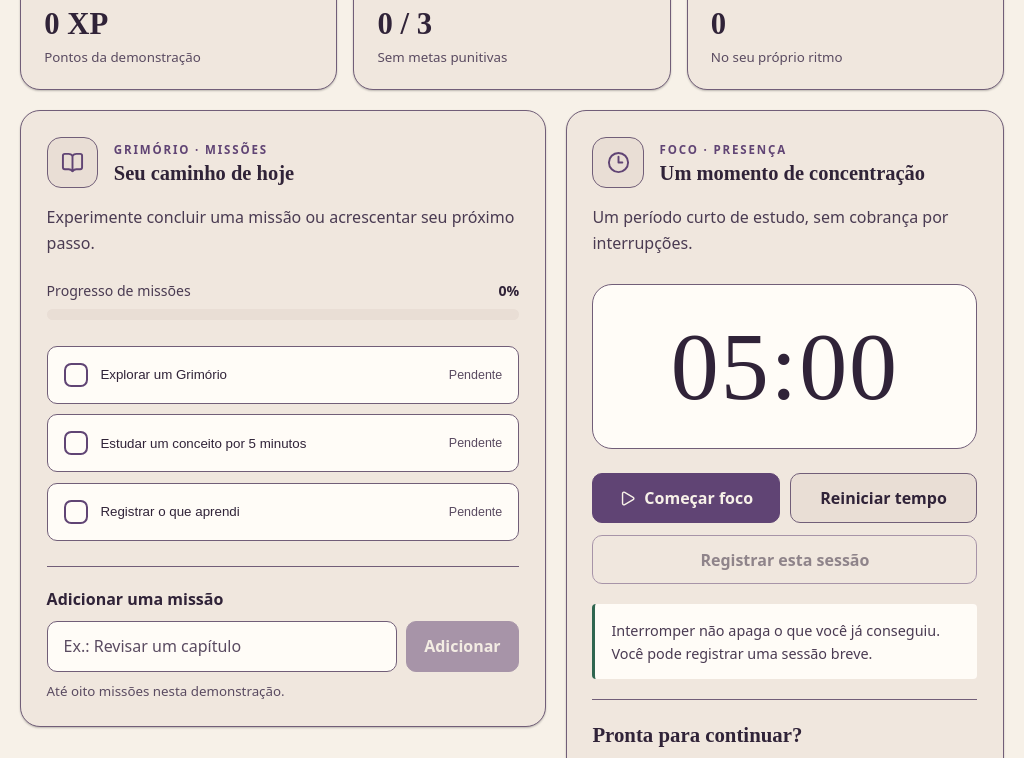
Test case: public synthetic Arcana MVP › completes and reopens a mission and updates gamified progress
This screenshot has width=1024, height=758.
(page scrolled)
Click the button "Explorar um Grimório Pendente": (164, 375) x1=47 y1=346 x2=519 y2=404
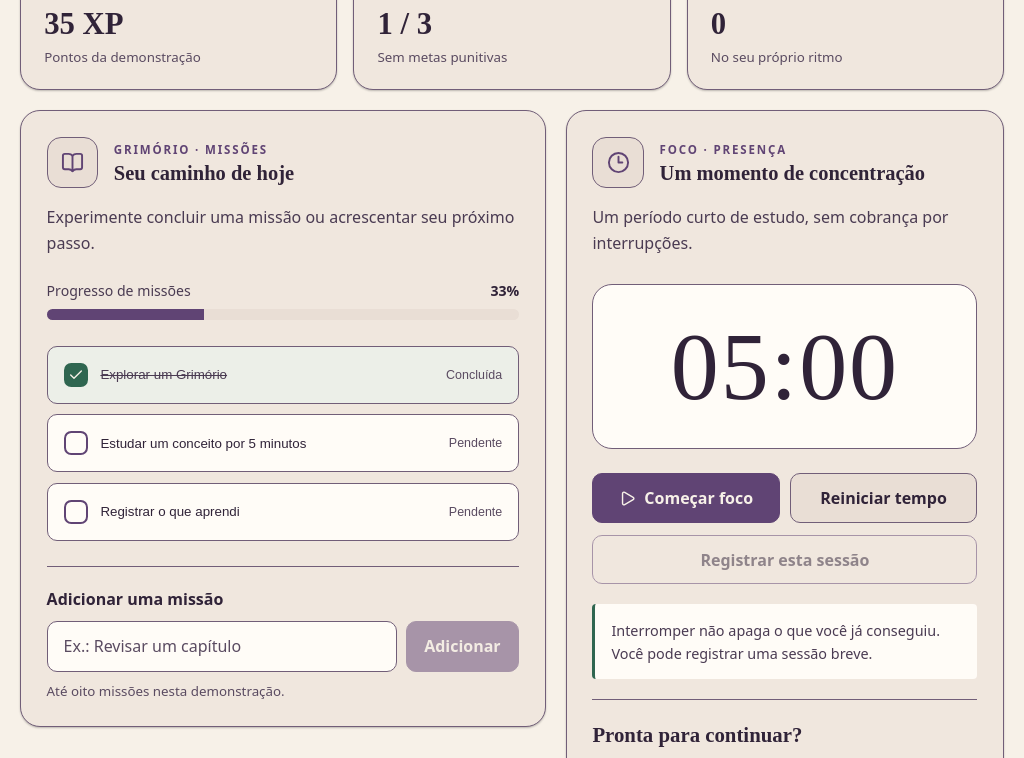
Expected: the text "35 XP" is shown, x1=44 y1=7 x2=124 y2=41
Click the button "Explorar um Grimório Concluída": (164, 375) x1=47 y1=346 x2=519 y2=404
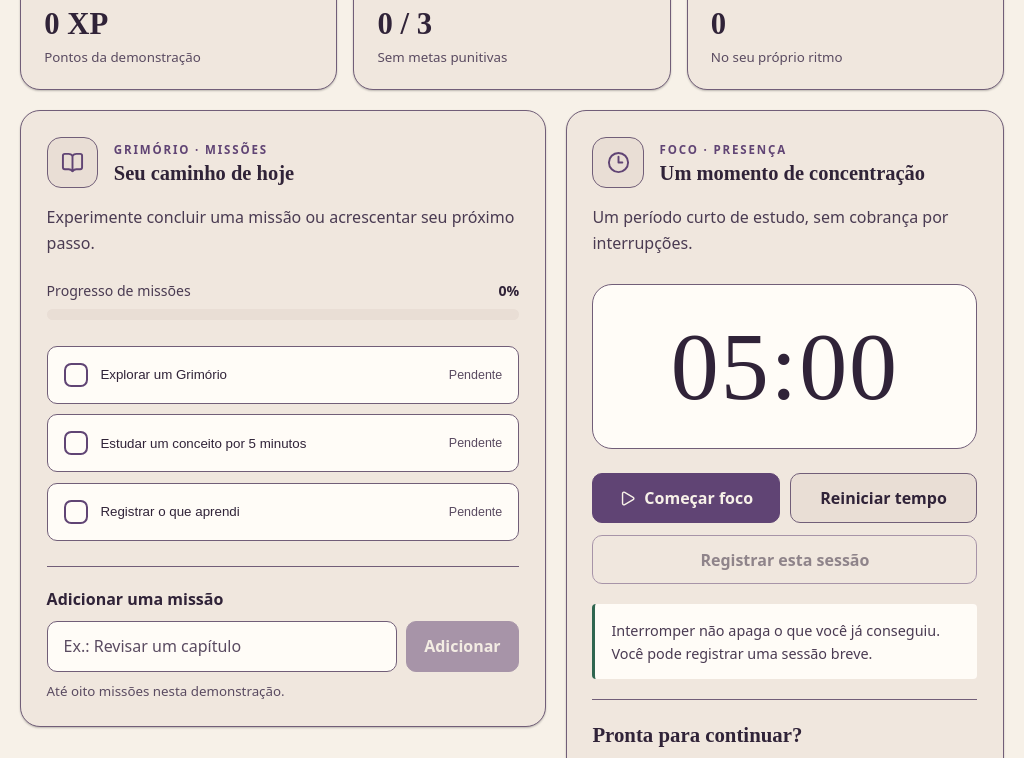
Expected: the text "0 XP" is shown, x1=44 y1=7 x2=108 y2=41
